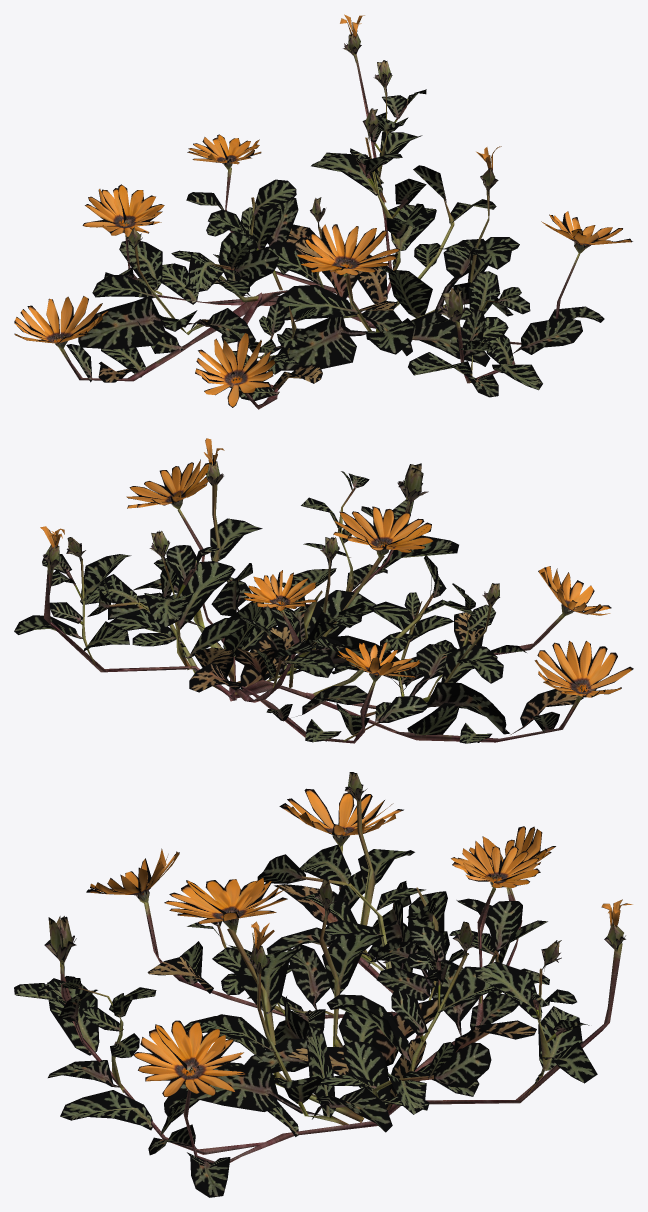
File: flower_ursinia_0.gltf
3 renders of one model, top to bottom at view 1: azimuth 30°, elevation 25°; view 2: azimuth 150°, elevation 25°; view 3: azimuth 270°, elevation 25°, orthographic. The views are drawn at different scales.
Parts seen in each view (by area): view 1: flower_ursinia_a_LOD0; view 2: flower_ursinia_a_LOD0; view 3: flower_ursinia_a_LOD0.
Boxes of the visible parts, x1,y1,x2,y2 form: flower_ursinia_a_LOD0: (14,14,632,409); flower_ursinia_a_LOD0: (14,438,633,743); flower_ursinia_a_LOD0: (14,772,632,1197).
Size of the model in its own units: 0.4254 by 0.1641 by 0.3432.
1 material, 1 textured.
